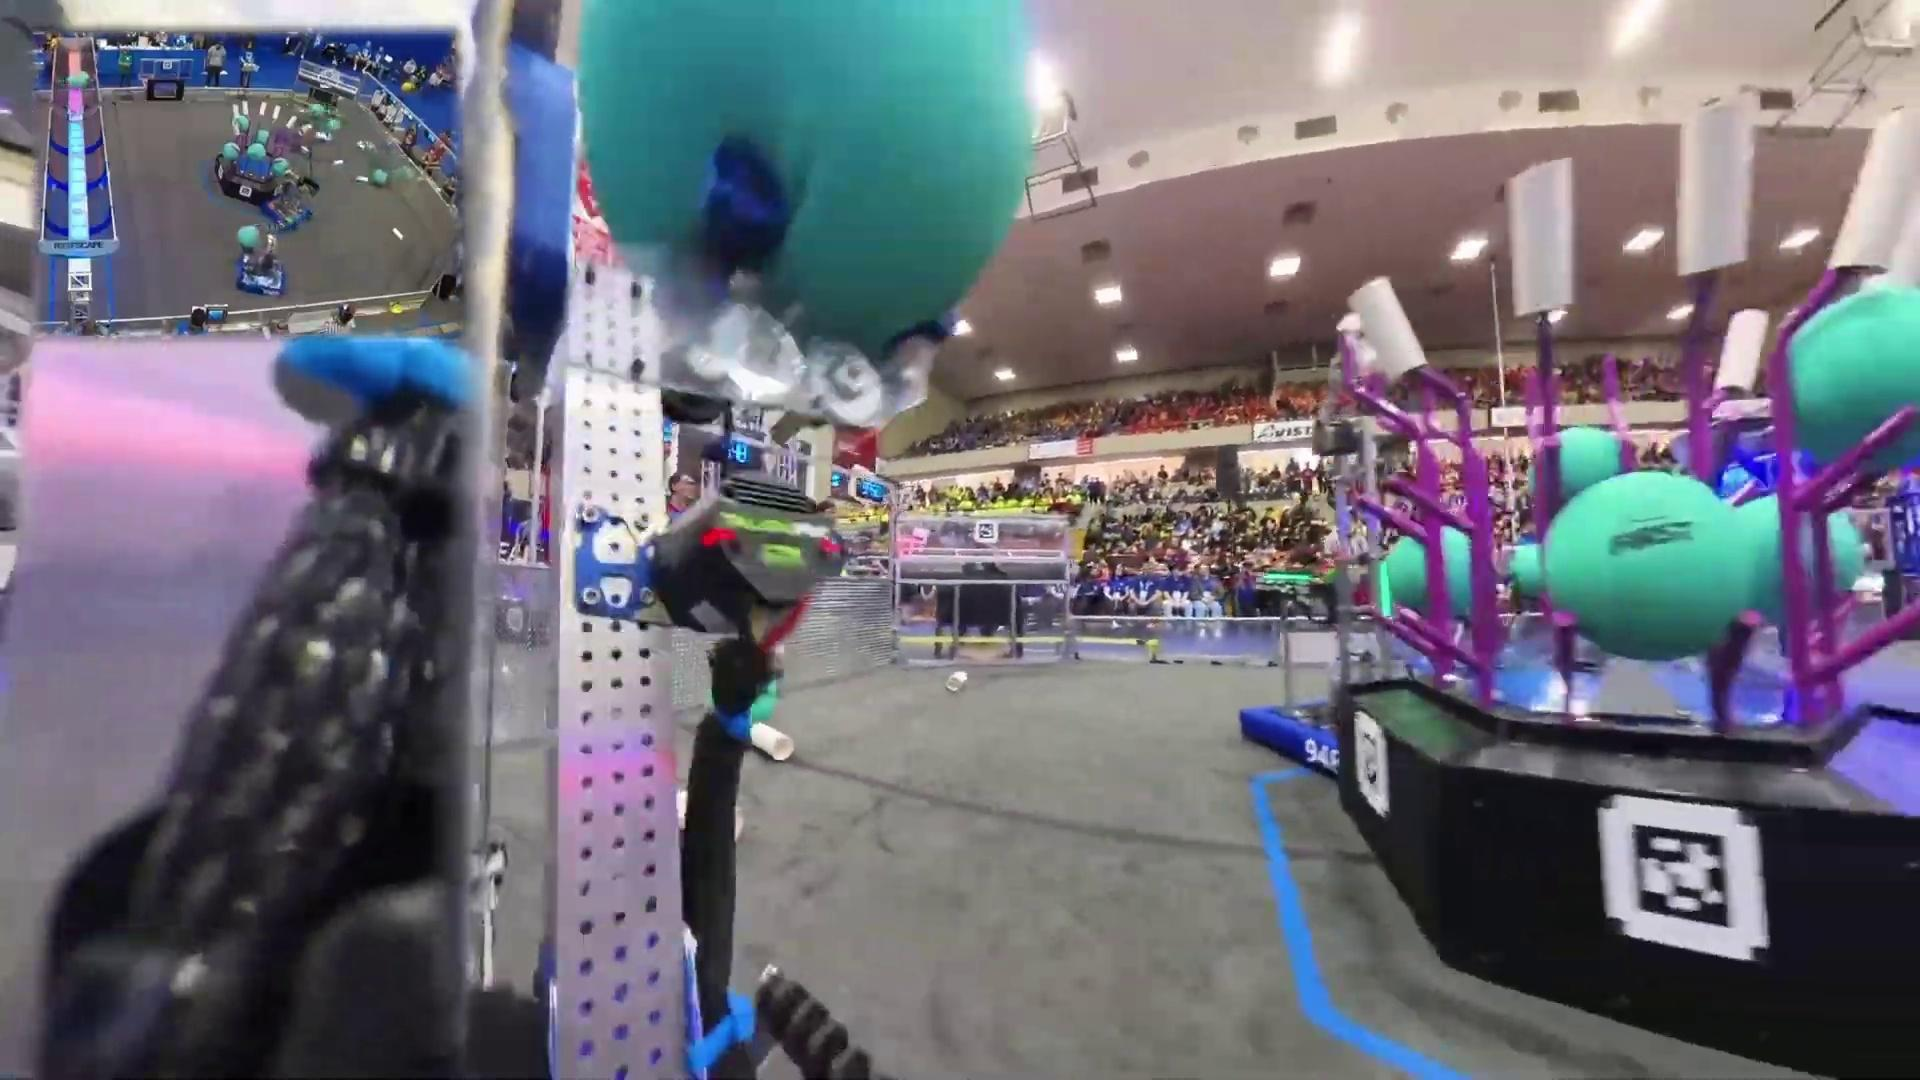robot: (1241, 605, 1344, 777), (236, 215, 287, 297), (264, 174, 315, 236)
